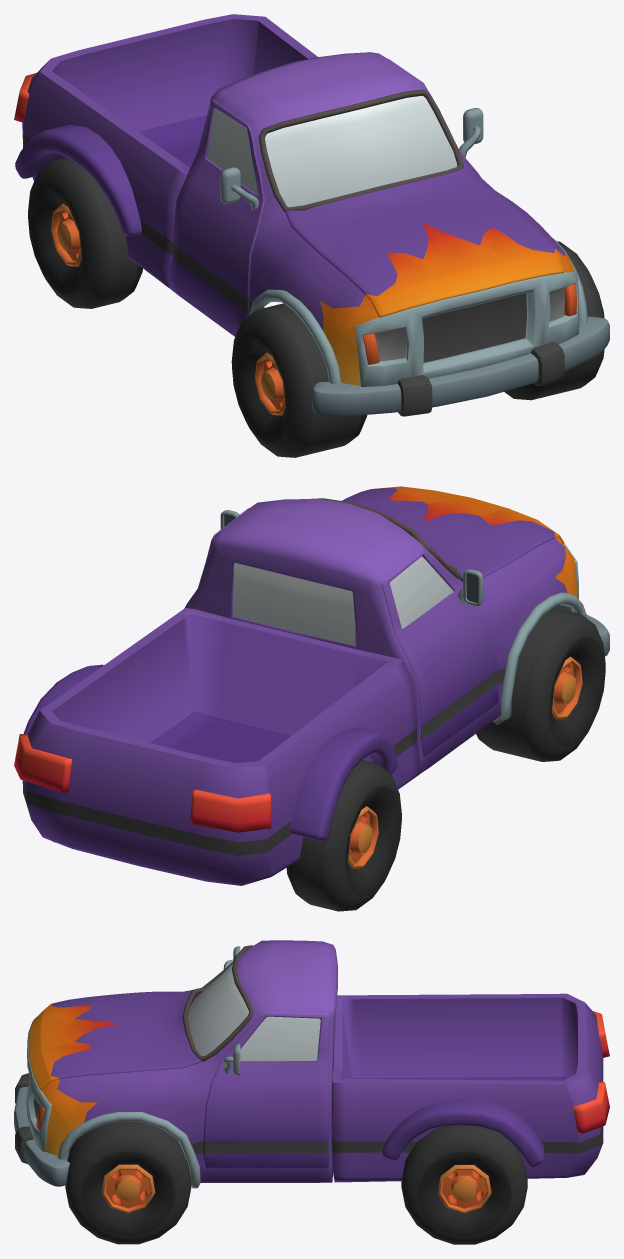
File: Car2.fbx
3 views of the same model, one above another, from view 1: azimuth 30°, elevation 25°; view 2: azimuth 150°, elevation 25°; view 3: azimuth 270°, elevation 25° (orthographic). The views are drawn at different scales.
Visible parts, largest first — view 1: Cube.010, Cube.019, Cube.016, Circle.004, Cube.011, Circle.003, Cube.012, Cube.015, Cube.018, Cube.013, Cube.014, Cube.017; view 2: Cube.010, Circle.004, Cube.012, Circle.003, Cube.019, Cube.018, Cube.014, Cube.017, Cube.013; view 3: Cube.010, Cube.012, Circle.004, Cube.019, Circle.003, Cube.018, Cube.011, Cube.014, Cube.015, Cube.016, Cube.013, Cube.017.
Part boxes in pixels (box(x1,y1,x2,y2)): Cube.010: box(14, 14, 587, 385); Cube.019: box(285, 167, 564, 317); Cube.016: box(354, 272, 578, 386); Circle.004: box(231, 241, 604, 457); Cube.011: box(265, 96, 457, 207); Circle.003: box(28, 157, 142, 308); Cube.012: box(170, 59, 480, 325); Cube.015: box(312, 316, 609, 416); Cube.018: box(15, 124, 141, 236); Cube.013: box(259, 89, 463, 211); Cube.014: box(207, 108, 258, 195); Cube.017: box(220, 108, 483, 211); Cube.010: box(14, 499, 586, 885); Circle.004: box(476, 607, 605, 761); Cube.012: box(184, 508, 498, 756); Circle.003: box(52, 760, 401, 911); Cube.019: box(342, 486, 564, 577); Cube.018: box(23, 664, 397, 841); Cube.014: box(390, 556, 453, 628); Cube.017: box(220, 510, 483, 606); Cube.013: box(311, 498, 462, 581); Cube.010: box(41, 940, 609, 1188); Cube.012: box(203, 1012, 329, 1167); Circle.004: box(65, 1121, 191, 1244); Cube.019: box(28, 990, 201, 1090); Circle.003: box(401, 1125, 527, 1244); Cube.018: box(382, 1099, 544, 1167); Cube.011: box(187, 964, 248, 1056); Cube.014: box(240, 1016, 320, 1060); Cube.015: box(14, 1073, 69, 1186); Cube.016: box(26, 1022, 51, 1151); Cube.013: box(182, 945, 253, 1061); Cube.017: box(223, 946, 240, 1075).
Bounding box in the file's own units: 1.67 × 1.36 × 3.29.
